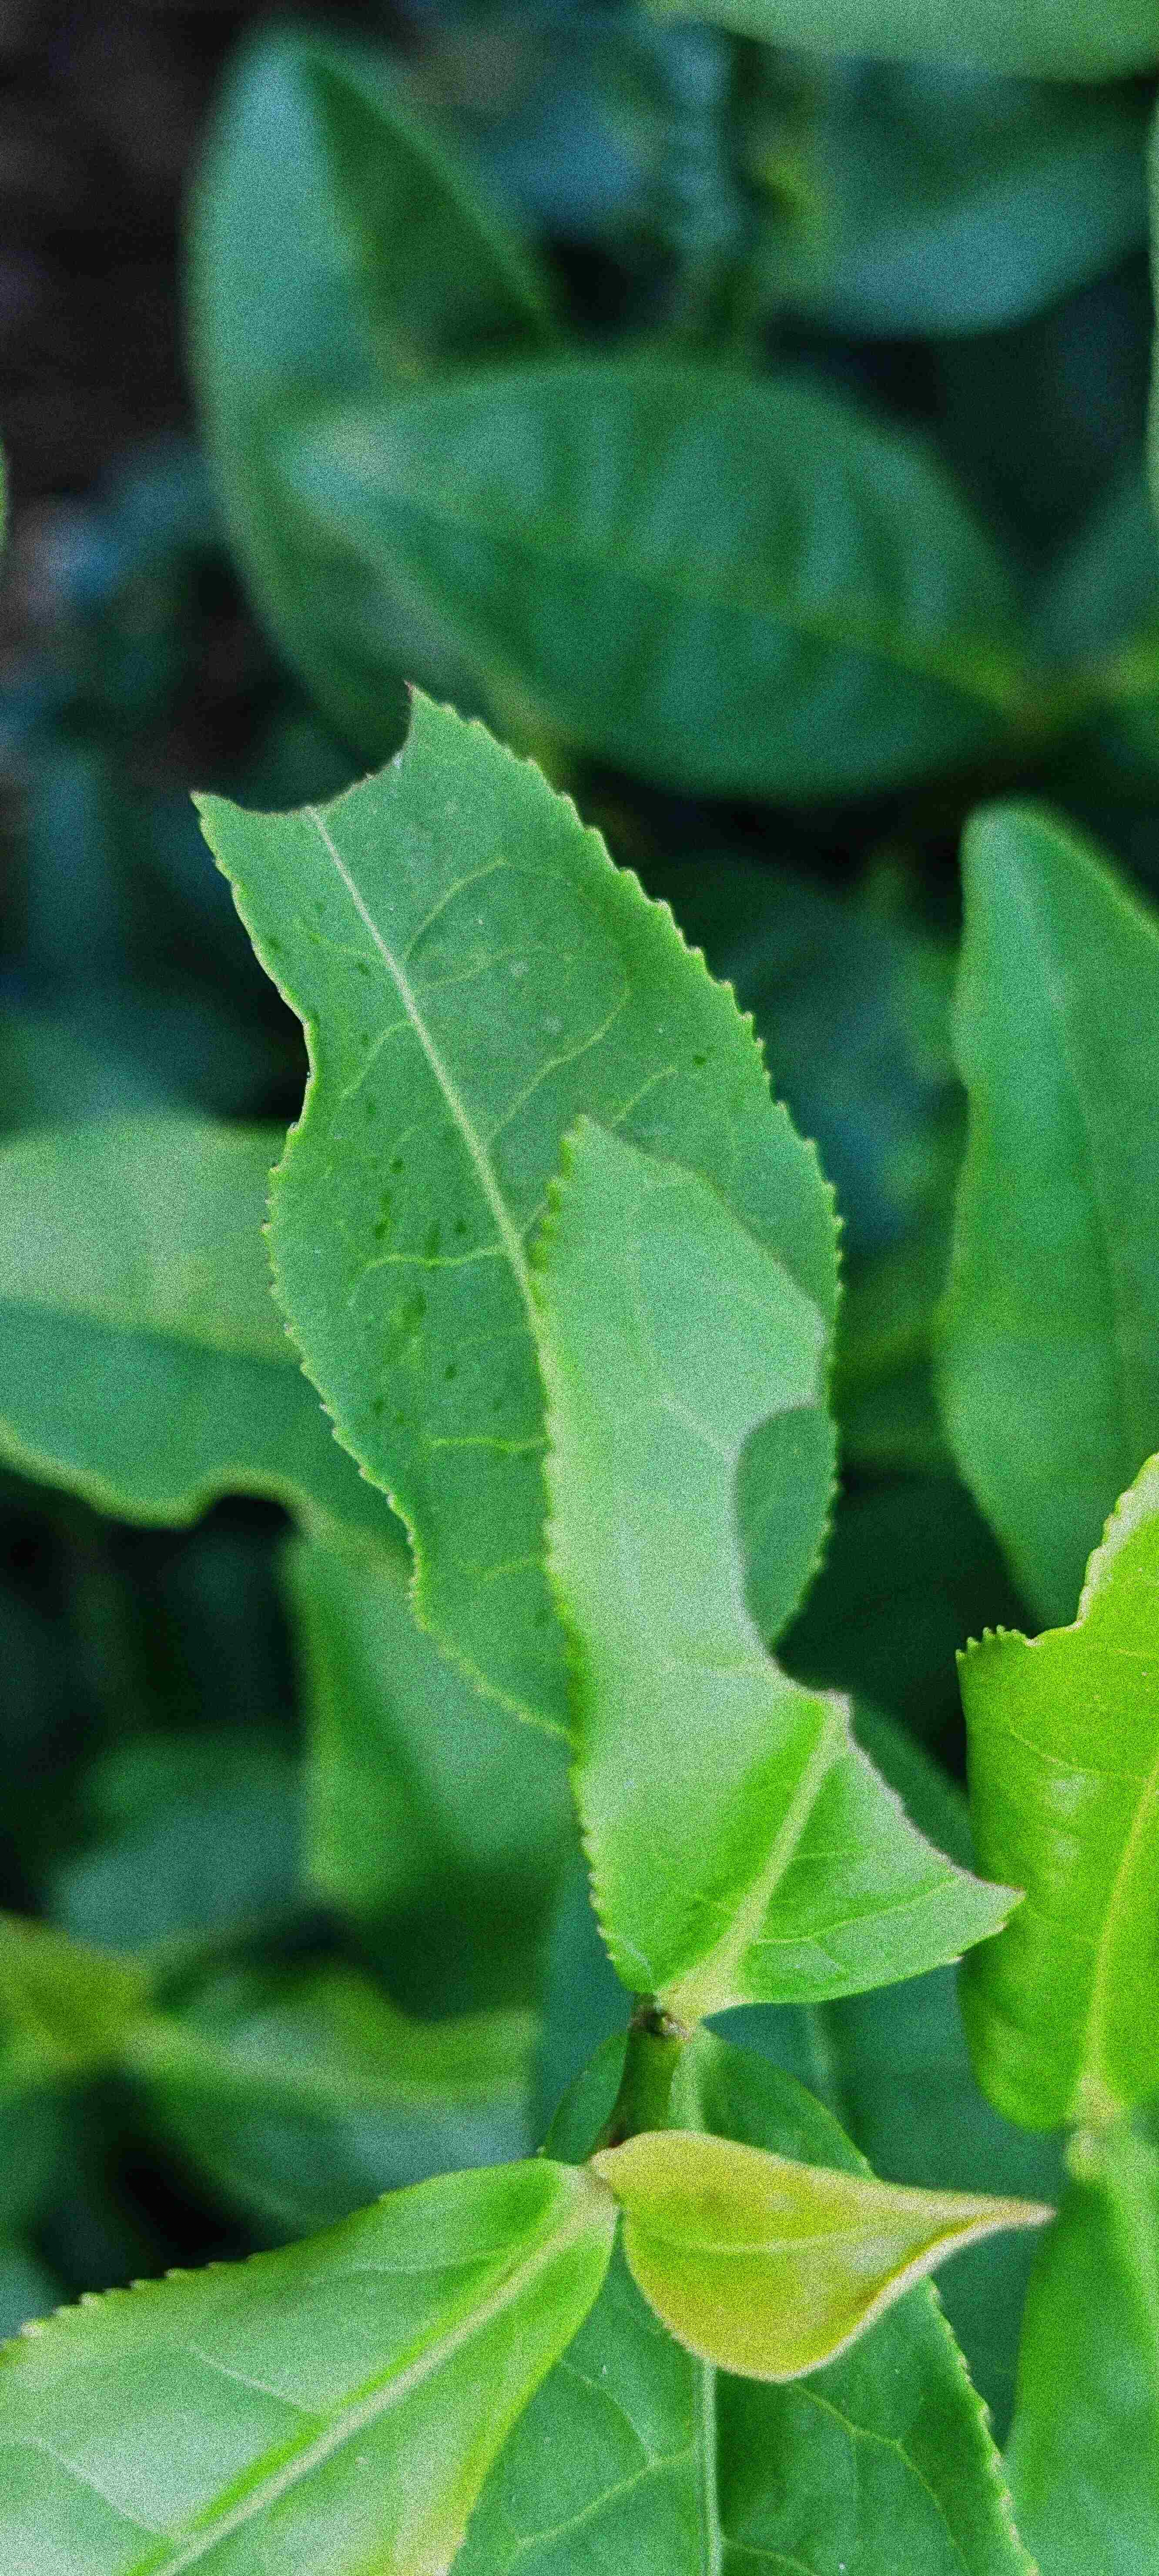chihuo_high: (525, 1111, 1023, 2017)
chihuo_low: (190, 677, 849, 1745)
healthy: (926, 792, 1154, 1625)
tanju_low: (594, 2129, 1061, 2392)
